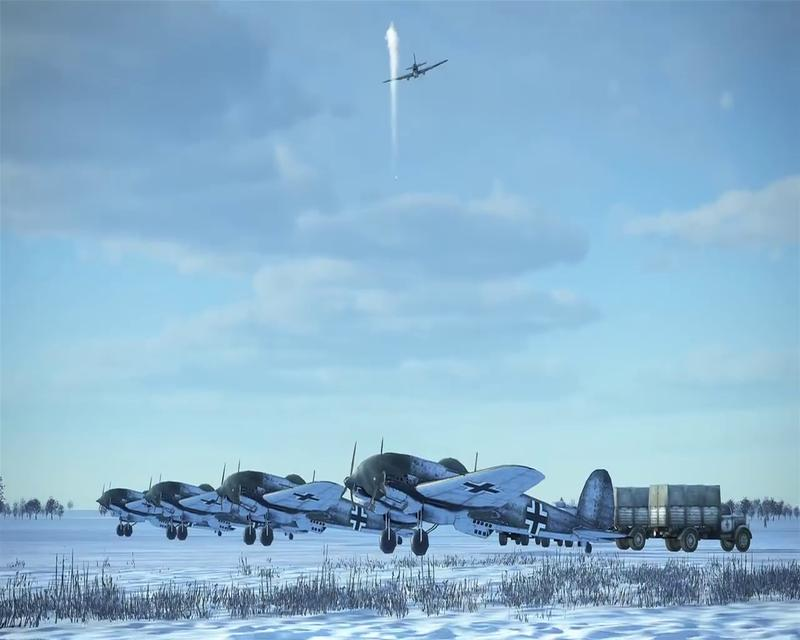UAV: (382, 51, 449, 84)
